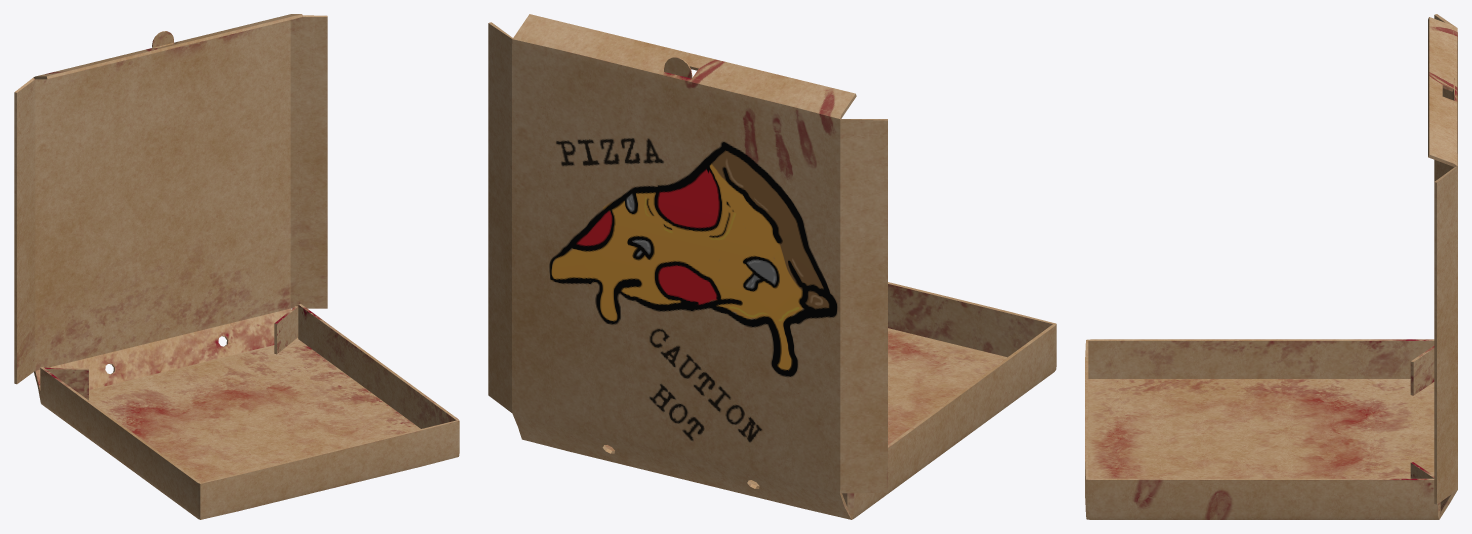
File: PizzaBoxV1T.fbx
3 views of the same model, side by side, from view 1: azimuth 30°, elevation 25°; view 2: azimuth 150°, elevation 25°; view 3: azimuth 270°, elevation 25° (orthographic). The views are drawn at different scales.
Parts seen in each view (by area): view 1: Plane; view 2: Plane; view 3: Plane.
Part boxes in pixels (x1=…): Plane: x1=14, y1=14, x2=459, y2=519; Plane: x1=488, y1=14, x2=1056, y2=519; Plane: x1=1085, y1=14, x2=1457, y2=519.
Bounding box in the file's own units: 228 × 234 × 213.
1 material, 1 textured.
